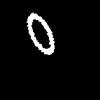chain: (27, 13, 53, 54)
